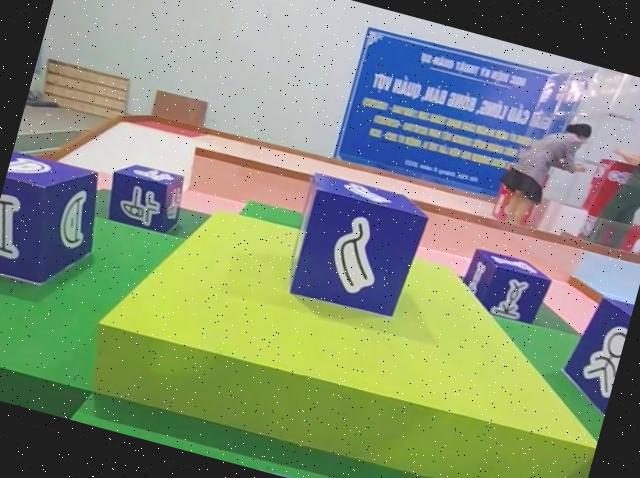R2 Real Blue: (281, 170, 432, 324), (0, 148, 111, 296), (552, 291, 634, 425), (456, 247, 554, 329), (101, 159, 189, 238)
